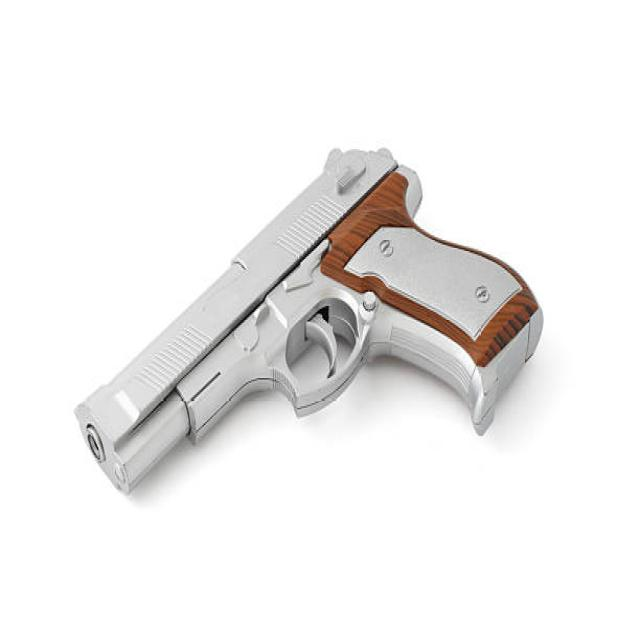pistol: (68, 136, 551, 509)
